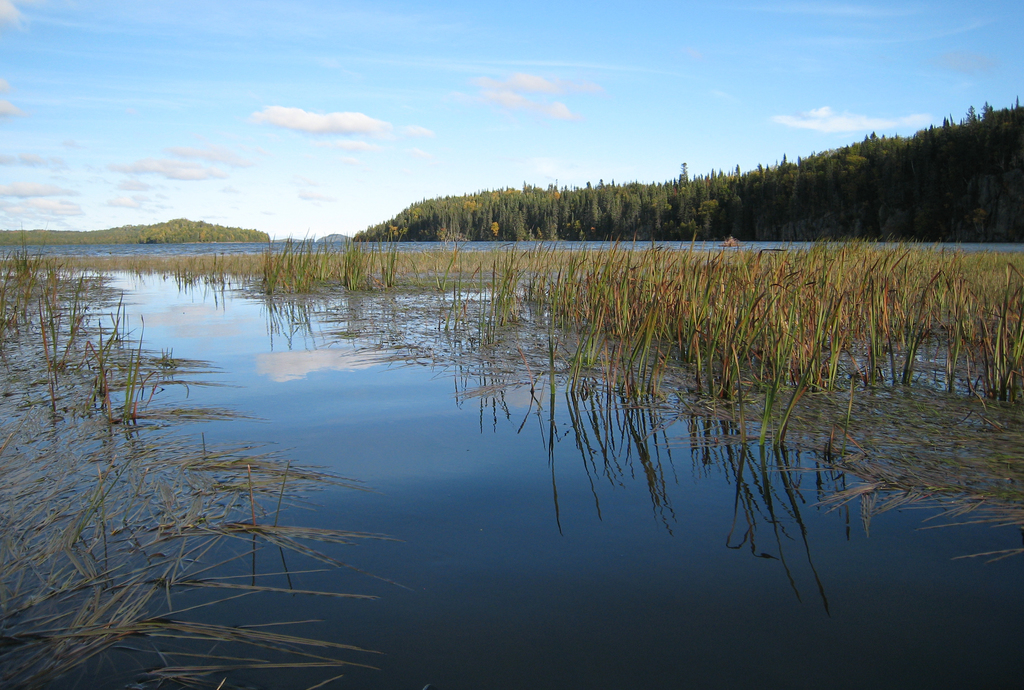Tree: (922, 113, 970, 252), (850, 128, 896, 245), (980, 89, 1013, 231), (949, 96, 979, 250), (812, 143, 857, 237), (777, 145, 807, 236), (677, 156, 705, 248), (1002, 97, 1023, 217), (730, 160, 756, 254), (690, 161, 721, 237), (630, 172, 664, 241), (899, 131, 926, 208), (751, 166, 778, 238), (508, 184, 535, 245), (439, 192, 471, 243), (608, 174, 629, 249), (415, 194, 444, 241), (652, 184, 675, 240), (533, 186, 560, 233), (467, 186, 490, 236), (580, 181, 600, 238), (399, 198, 424, 241), (560, 186, 580, 233), (491, 191, 499, 233), (376, 220, 396, 233)
